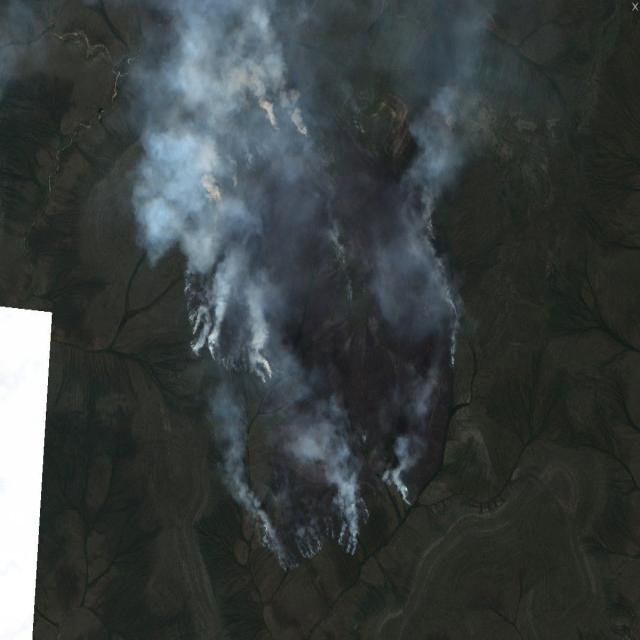fire: (179, 100, 465, 574)
